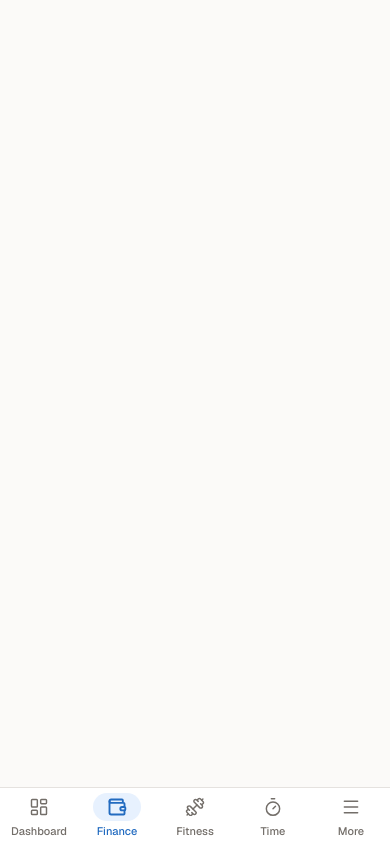
Test: BottomNav › opens More to every module, with the current one marked
The image size is (390, 844).
Click the button "More" at (351, 816), box 312,788 -> 389,843
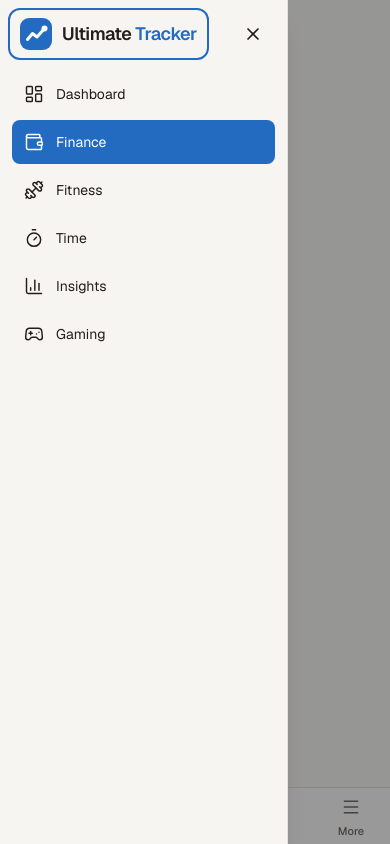
Now the button "More" is expanded, box 312,788 -> 389,843
Now the link "Dashboard" is shown, box 24,84 -> 126,104
Now the link "Finance" is shown, box 12,120 -> 275,164
